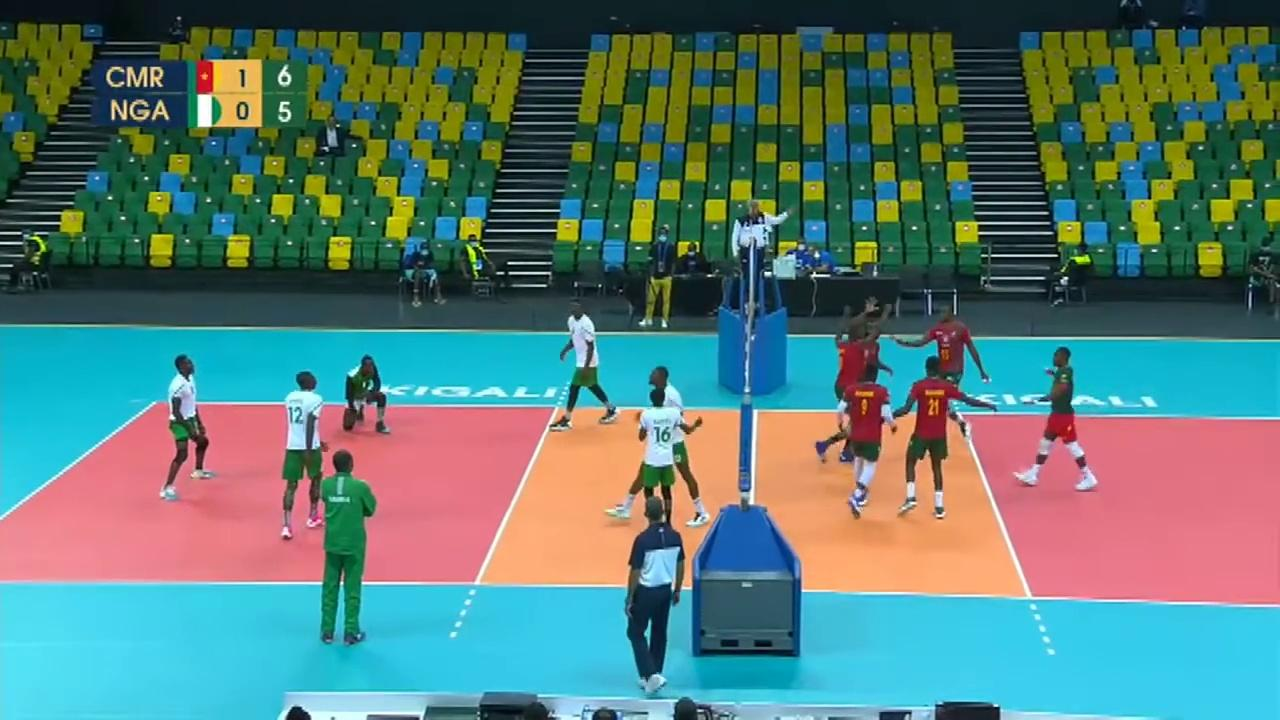player: (601, 364, 724, 526), (901, 354, 970, 526), (1017, 349, 1099, 488), (908, 304, 991, 441), (839, 361, 897, 525), (548, 300, 620, 425), (814, 325, 875, 463), (635, 384, 691, 534), (281, 374, 330, 538), (161, 359, 213, 494), (850, 310, 893, 449), (338, 352, 396, 433)
refree: (629, 496, 684, 691), (739, 196, 779, 301)
